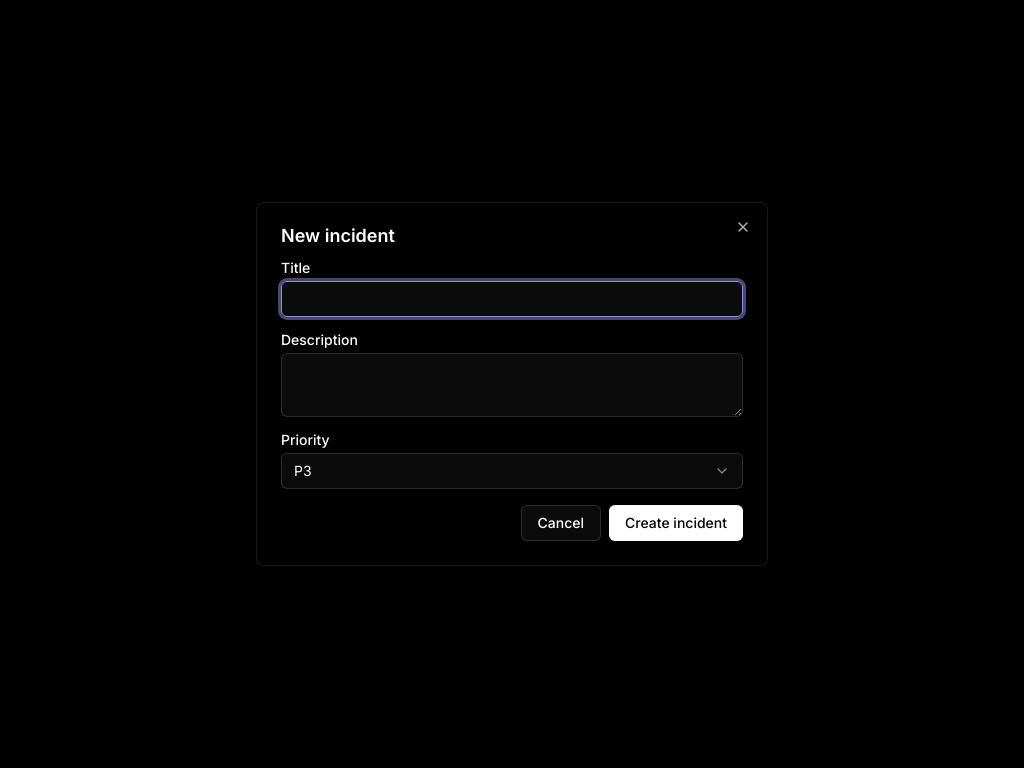
CreateIncidentDialog › shows a validation error and does not submit when title is blank
Click the button "Create incident" at point(676, 523), box x1=609 y1=505 x2=743 y2=541
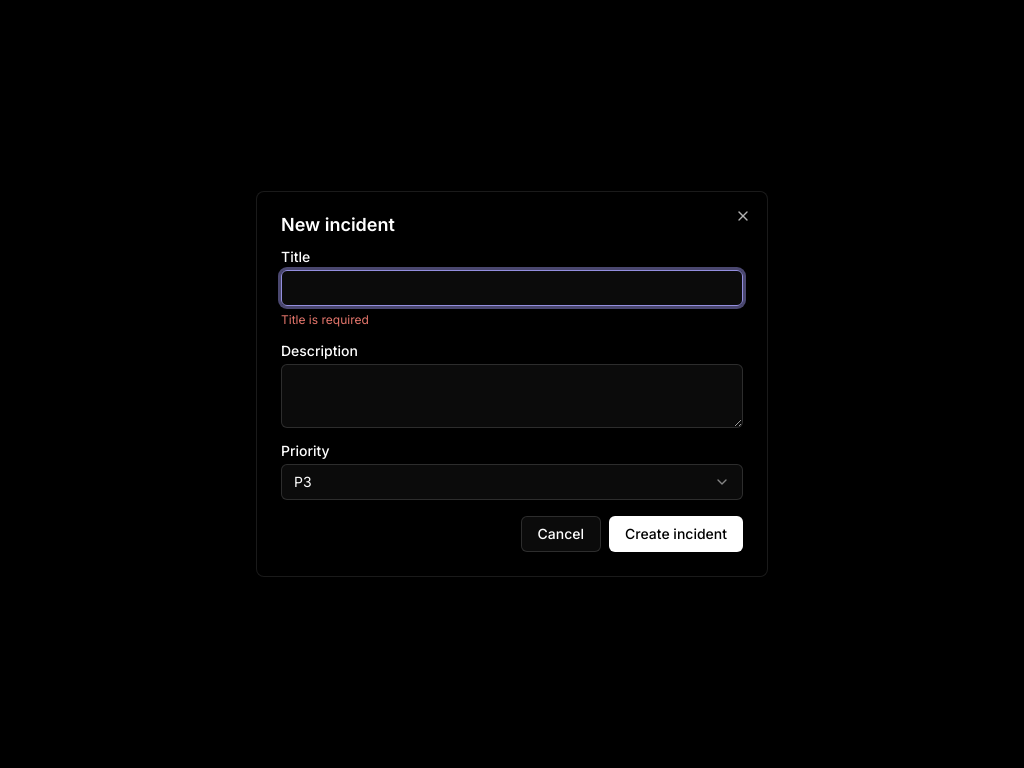
Expected: the text "Title is required" is shown, x1=281 y1=312 x2=369 y2=327
